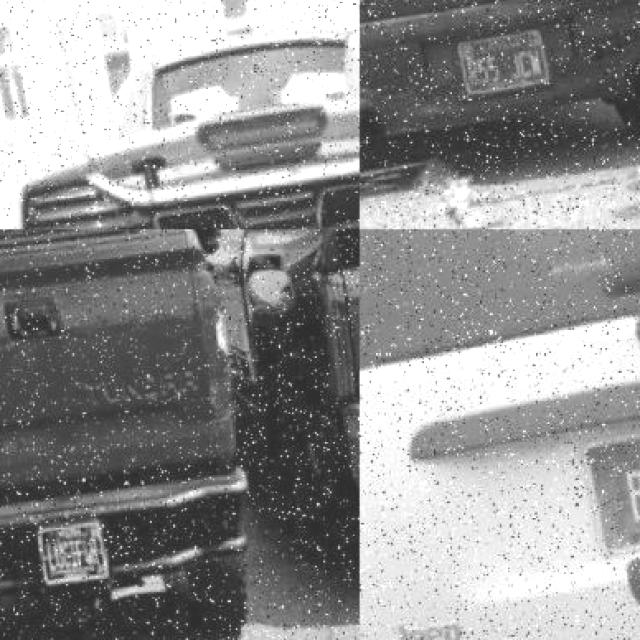licenseplate: (447, 32, 541, 99), (28, 522, 99, 588)
